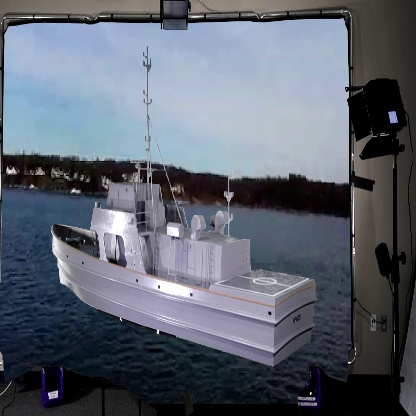YP689: (49, 44, 316, 372)
